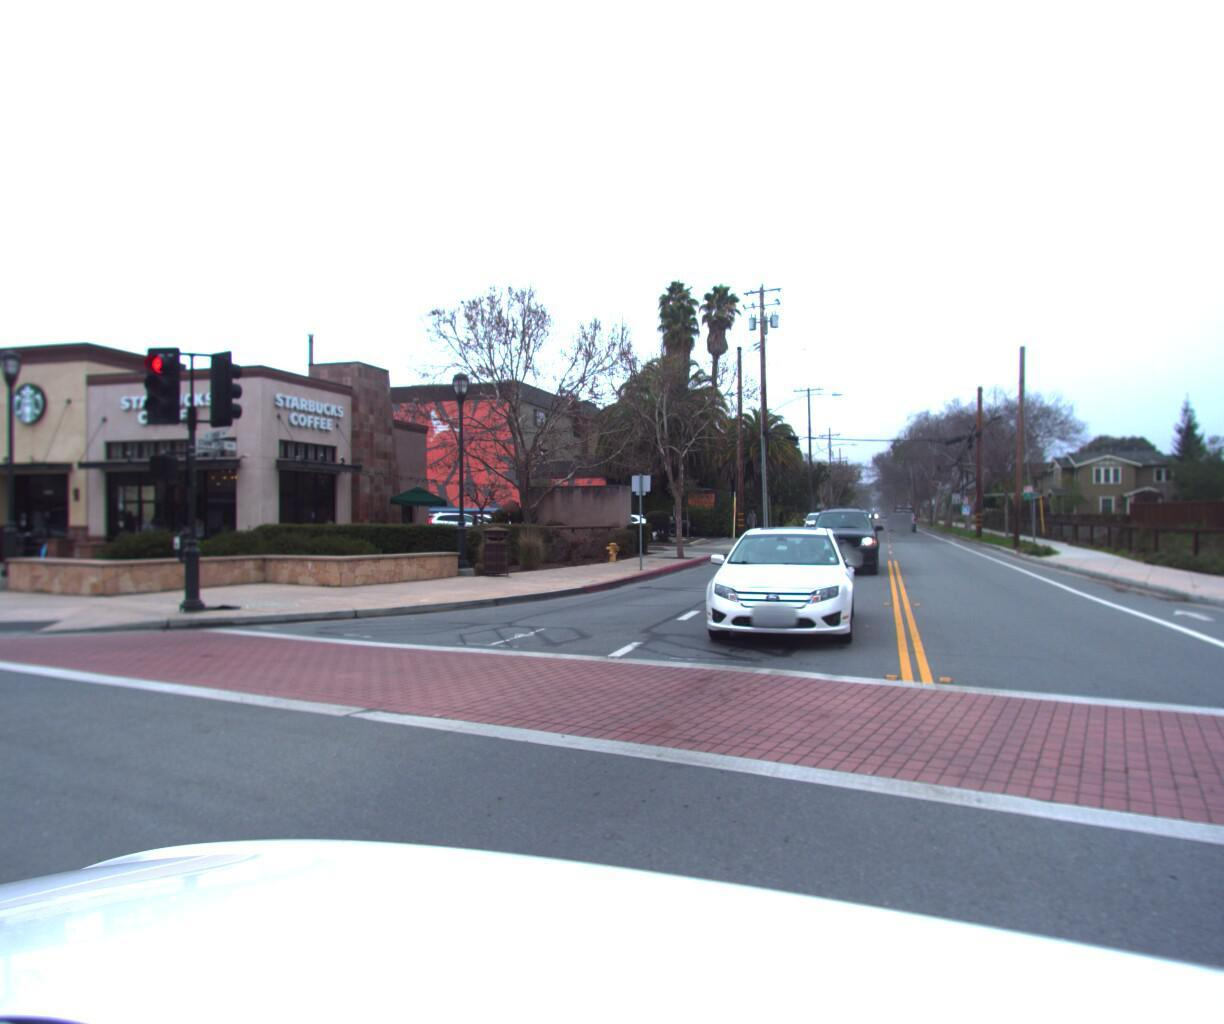bicycle: (30, 528, 66, 574), (8, 526, 40, 573)
car: (689, 516, 858, 657), (803, 498, 877, 576), (890, 501, 918, 527), (802, 507, 833, 530)
